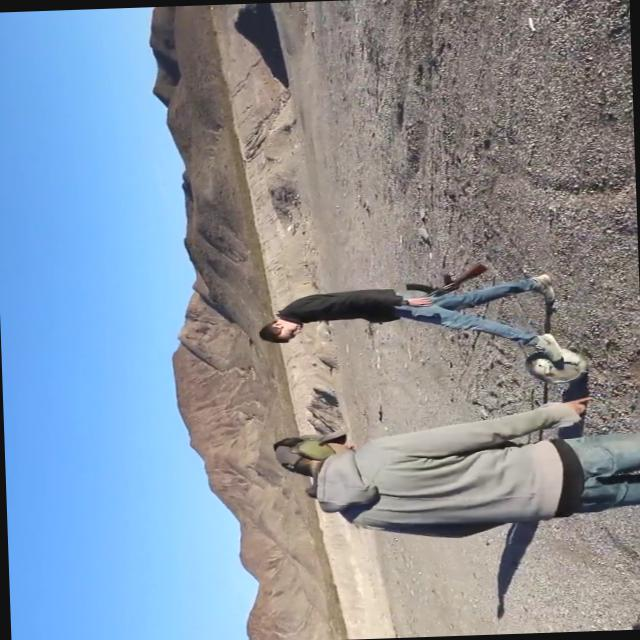long weapon: (369, 254, 497, 320)
